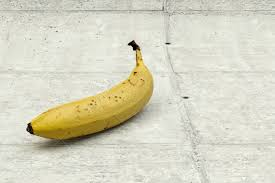banana: (24, 40, 155, 142)
